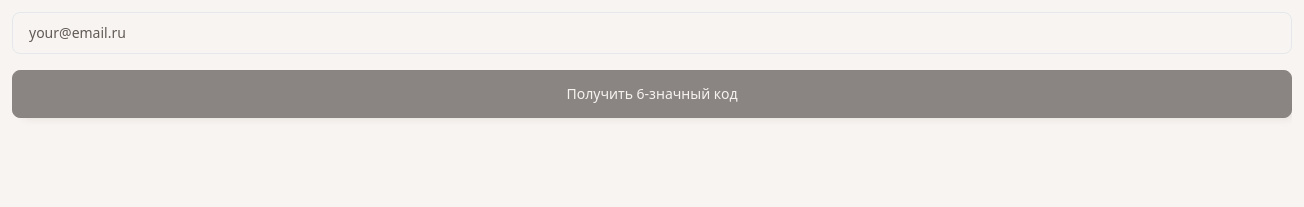
EmailOtpForm › renders email input and sends magic link
Type "user@clean-doc.ru" into the field with placeholder "your@email.ru" at x=652, y=33, box [12, 12, 1292, 54]
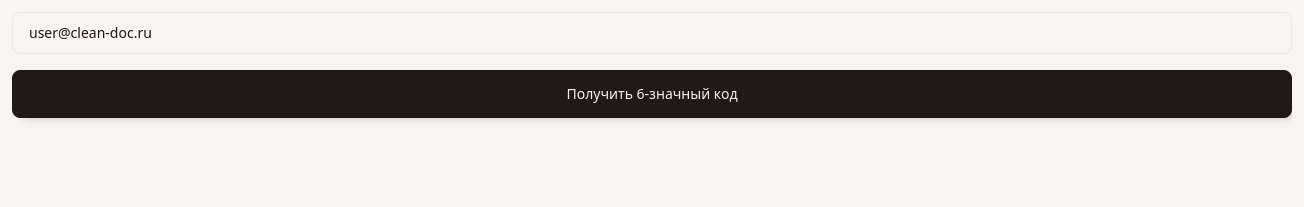
Click the button "Получить 6-значный код" at x=652, y=94, box [12, 70, 1292, 118]
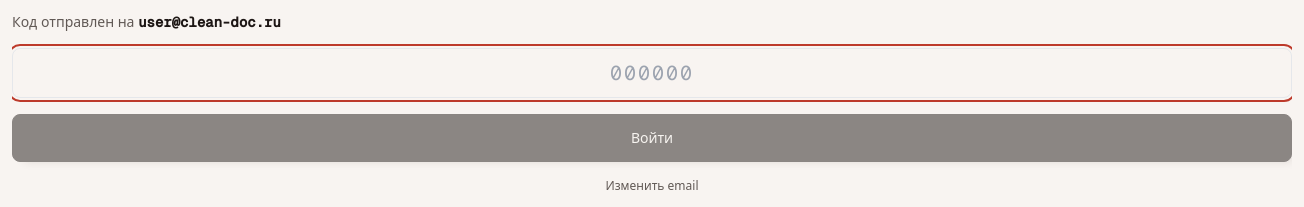
Expected: the field with placeholder "000000" is shown, [12, 48, 1292, 98]
